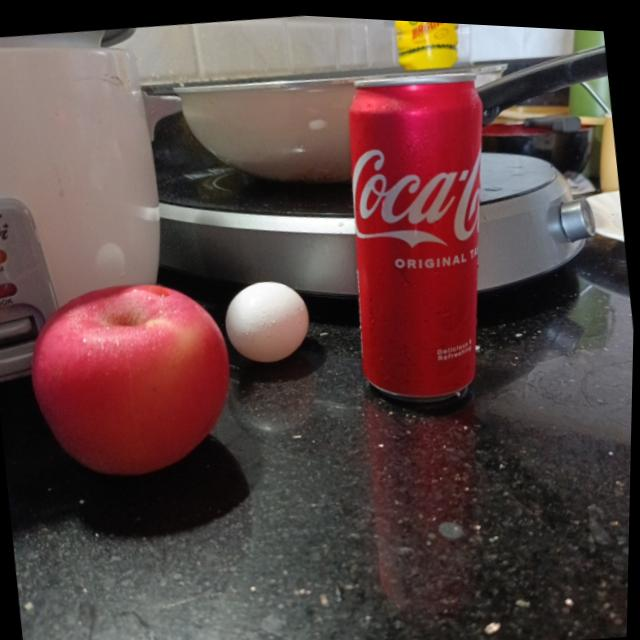apple: (22, 266, 242, 486)
coke: (326, 59, 518, 404)
egg: (221, 270, 316, 367)
